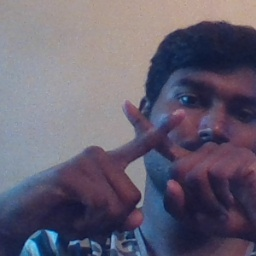X: (84, 91, 224, 219)
